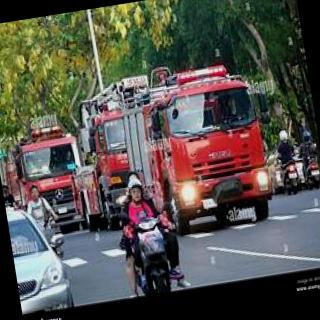Fire_truck: (5, 110, 93, 239)
